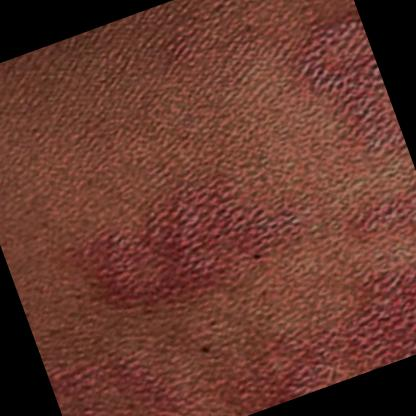Leprosy: (46, 148, 338, 346), (183, 248, 416, 416), (259, 0, 408, 188)
